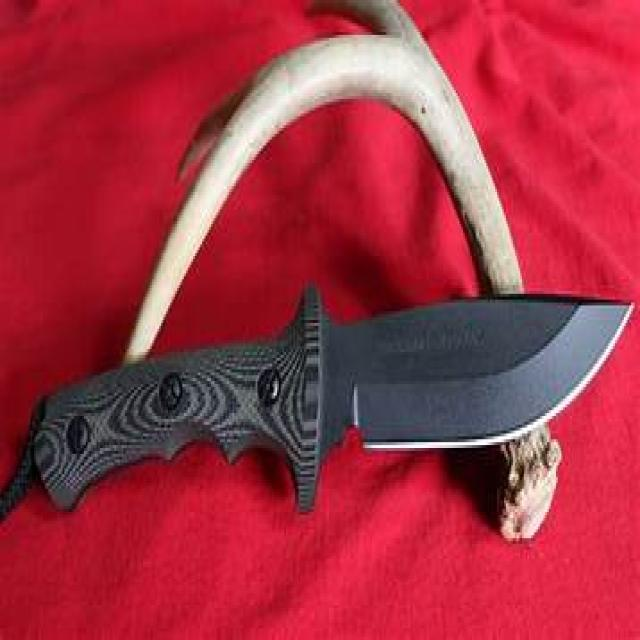Knife: (31, 270, 636, 536)
